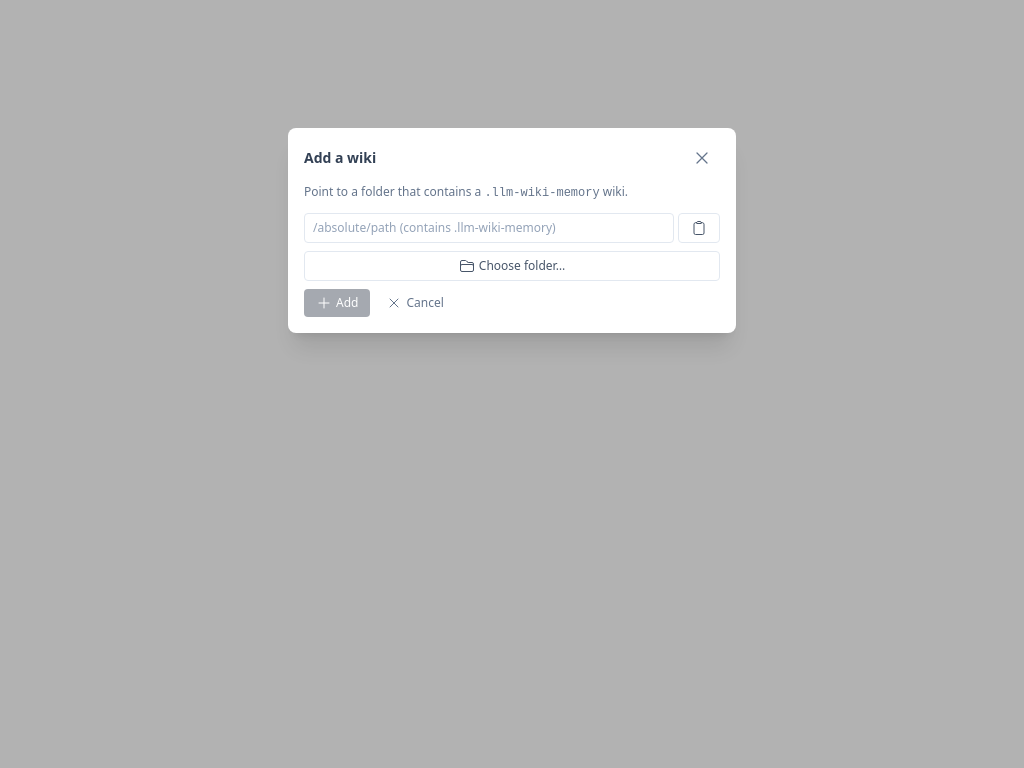
Test: a clipboard-read failure surfaces a friendly error
This screenshot has width=1024, height=768.
Click the button named "paste from clipboard" at {"x": 699, "y": 228}, box [678, 213, 720, 243]
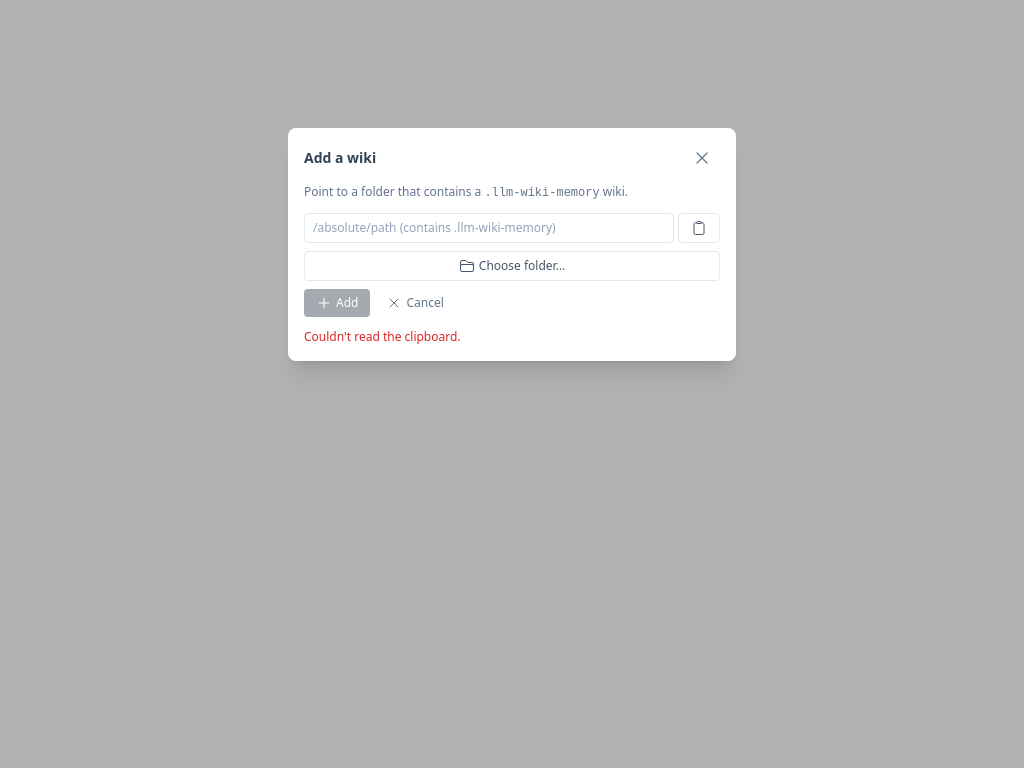
Check: the text "Couldn't read the clipboard." is shown, box [304, 328, 461, 345]
